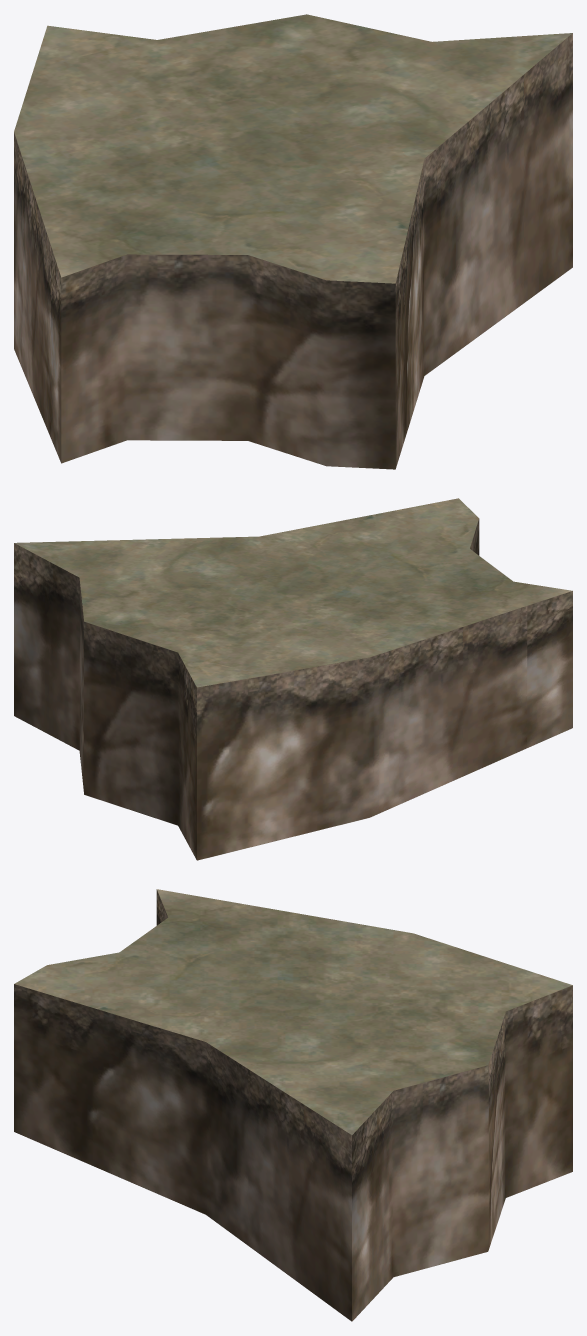
The model's file is OVERHILL_A_01_ROCK_FALL_10.fbx.
3 renders of one model, top to bottom at view 1: azimuth 30°, elevation 25°; view 2: azimuth 150°, elevation 25°; view 3: azimuth 270°, elevation 25°, orthographic. The views are drawn at different scales.
Parts seen in each view (by area): view 1: OVERHILL_A_01_ROCK_FALL_10; view 2: OVERHILL_A_01_ROCK_FALL_10; view 3: OVERHILL_A_01_ROCK_FALL_10.
Part boxes in pixels (x1,y1,x2,y2): OVERHILL_A_01_ROCK_FALL_10: (14,14,572,469); OVERHILL_A_01_ROCK_FALL_10: (14,498,572,860); OVERHILL_A_01_ROCK_FALL_10: (14,889,572,1321).
Bounding box in the file's own units: 23598 × 8335 × 22638.
Materials: 2 (2 with a texture image).
